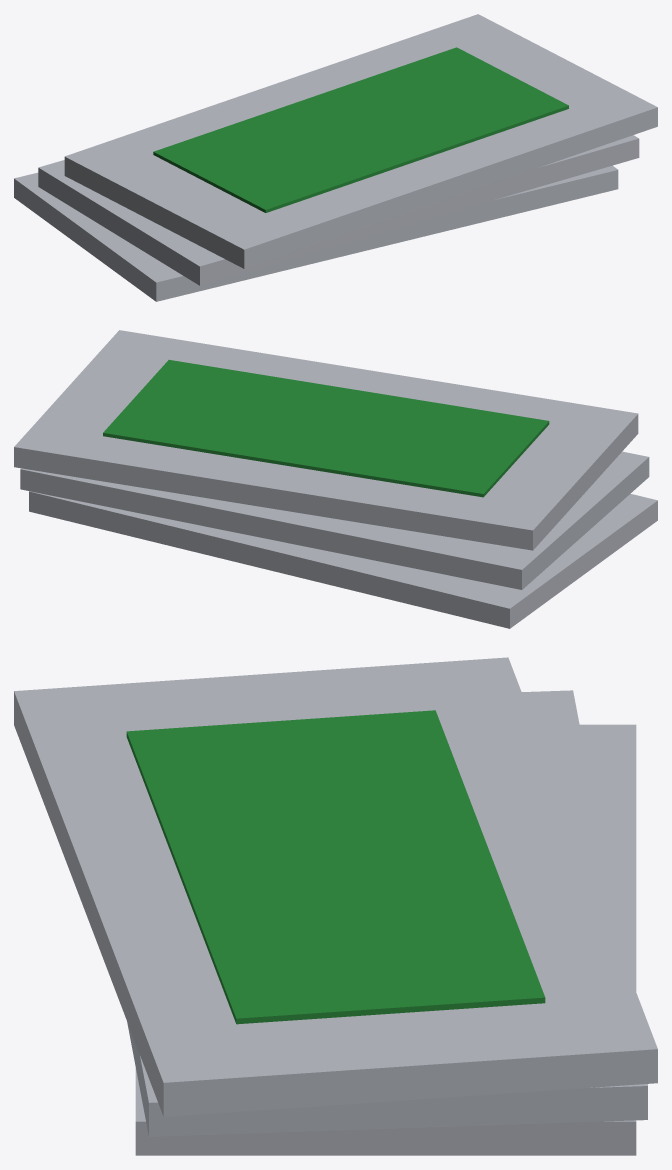
Rendered from printing_plates.glb.
3 views of the same model, one above another, from view 1: azimuth 30°, elevation 25°; view 2: azimuth 150°, elevation 25°; view 3: azimuth 270°, elevation 25° (orthographic). The views are drawn at different scales.
Visible parts, largest first — view 1: plates_plate_metal, plates_ink_green; view 2: plates_plate_metal, plates_ink_green; view 3: plates_plate_metal, plates_ink_green.
Part boxes in pixels (bbox=[...]): plates_plate_metal: bbox=[14, 14, 657, 301]; plates_ink_green: bbox=[153, 47, 568, 212]; plates_plate_metal: bbox=[14, 330, 657, 628]; plates_ink_green: bbox=[103, 360, 549, 497]; plates_plate_metal: bbox=[14, 657, 657, 1155]; plates_ink_green: bbox=[126, 710, 545, 1024].
Bounding box in the file's own units: 0.3308 × 0.042 × 0.2058.
